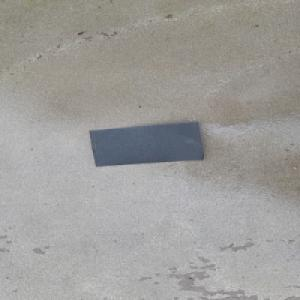PaintChip: (89, 121, 205, 167)
